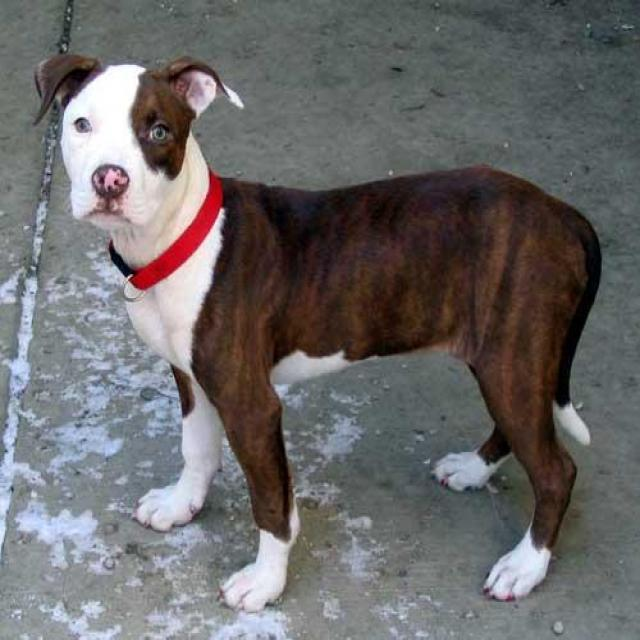Dogs: (32, 50, 603, 613)
